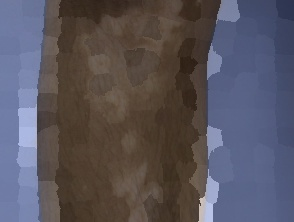vitiligo: (65, 0, 201, 135), (95, 159, 177, 222)
